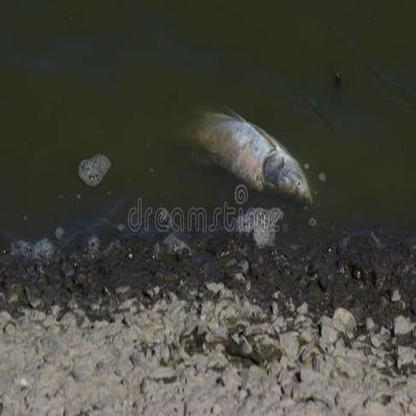deceased fish: (175, 101, 315, 209)
